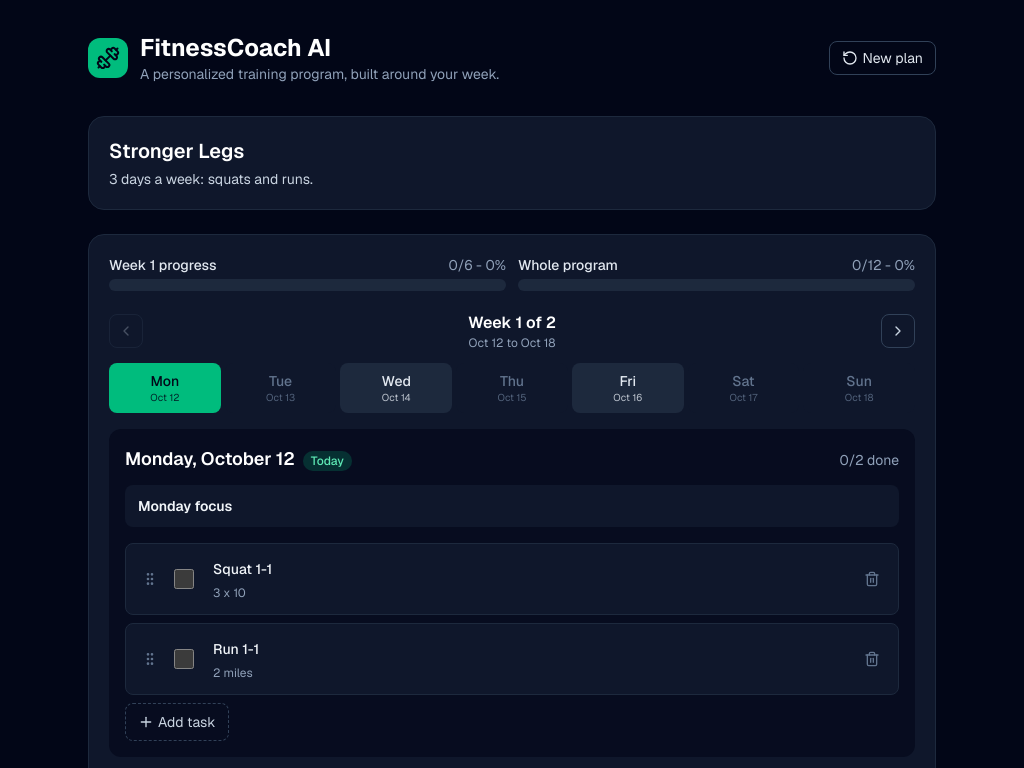
Scenario: dashboard: ticking tasks updates progress › ticking every task in a day shows the day done and 100% for that day's share
Expected: the heading "Stronger Legs" is shown, [109, 138, 244, 164]
Click the checkbox named "Mark complete: Squat 1-1": (184, 579) [174, 569, 194, 589]
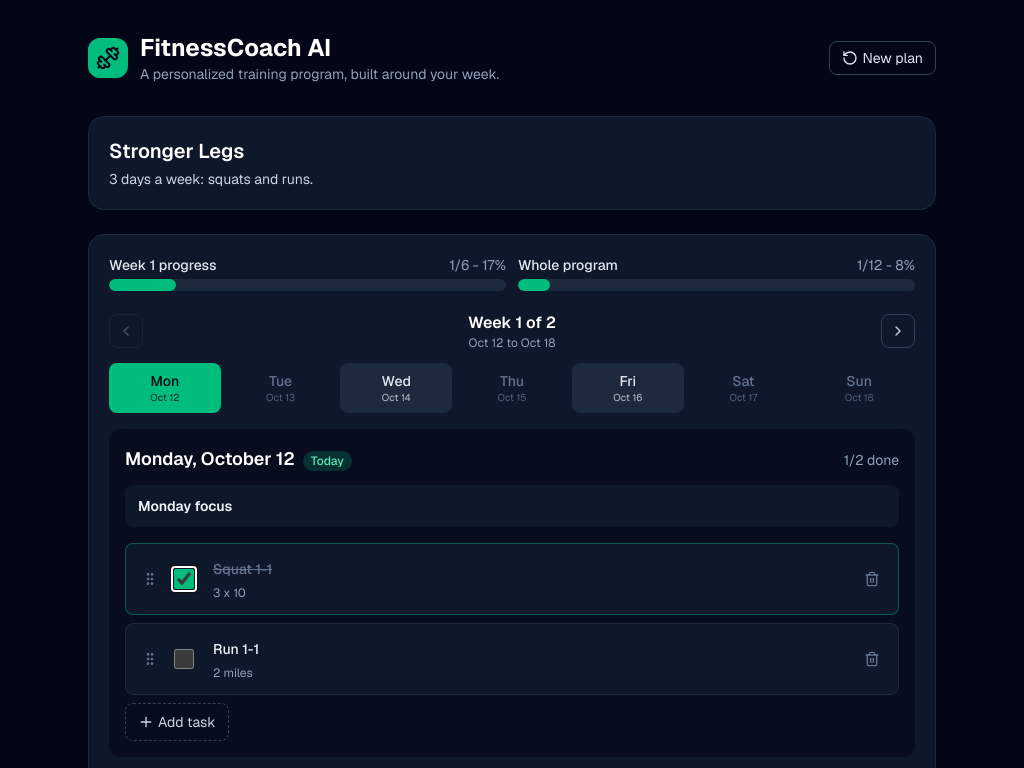
Click the checkbox named "Mark complete: Run 1-1": (184, 659) [174, 649, 194, 669]
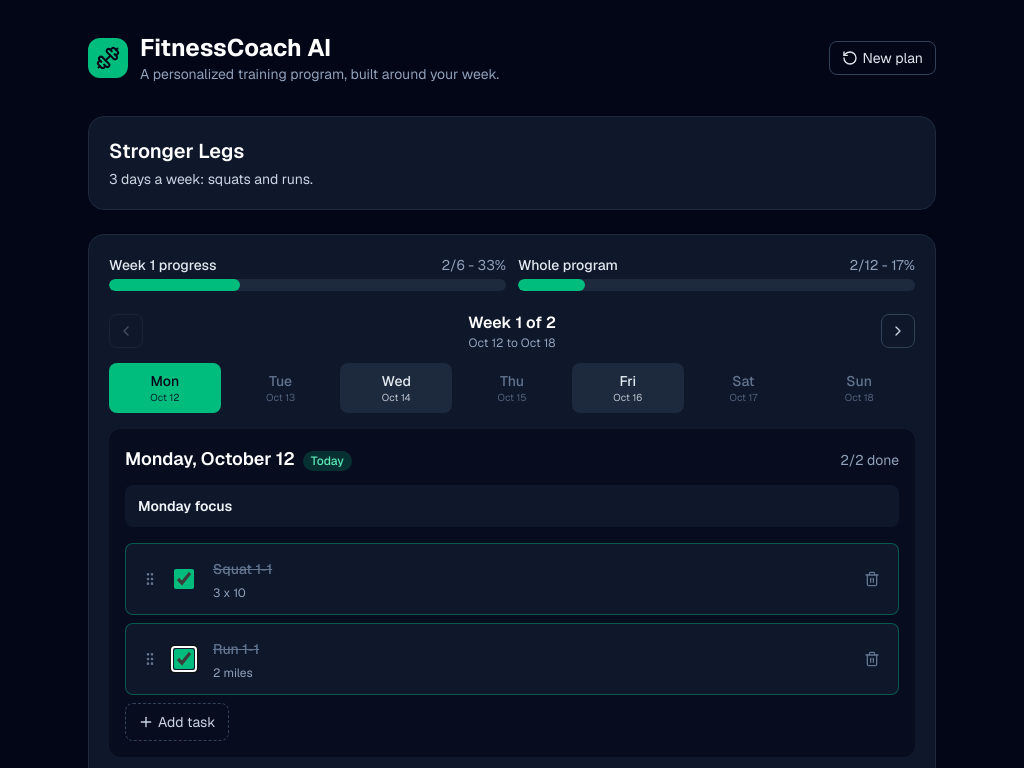
Result: the text "2/2 done" is shown at [840, 450, 899, 470]
Result: the text "2/6 - 33%" is shown at [441, 255, 506, 275]
